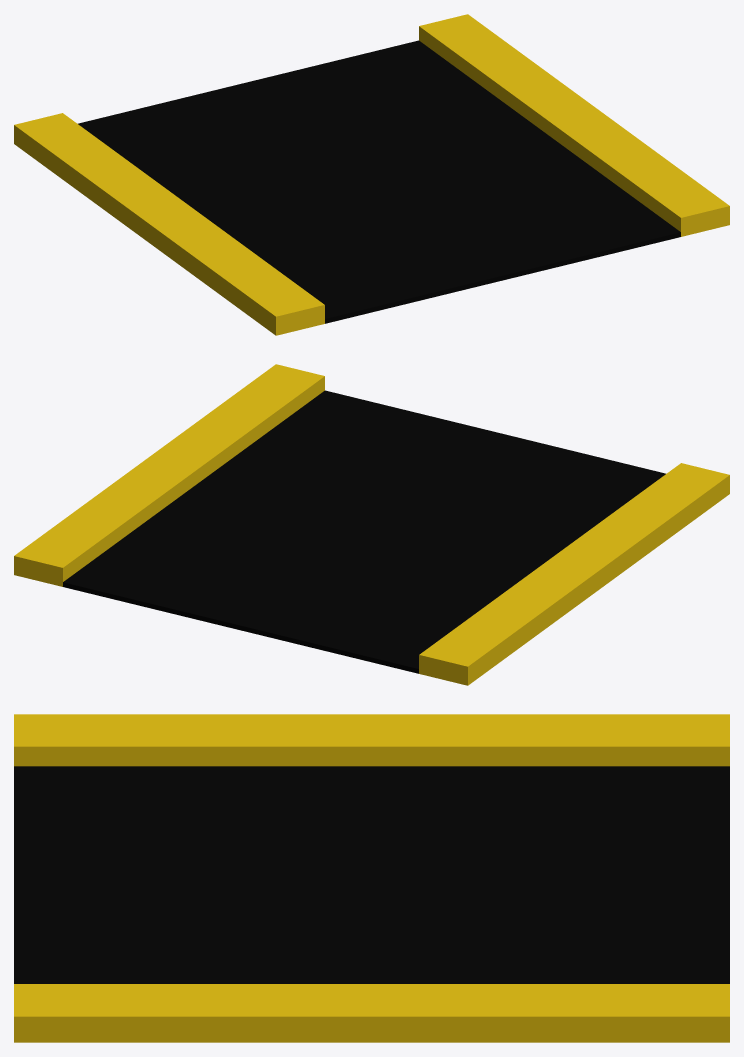
Rendered from Road_MD.fbx.
The picture shows the model from 3 angles, top to bottom: view 1: azimuth 30°, elevation 25°; view 2: azimuth 150°, elevation 25°; view 3: azimuth 270°, elevation 25°; orthographic projection. The views are drawn at different scales.
Visible parts, largest first — view 1: Road_tile; view 2: Road_tile; view 3: Road_tile.
Boxes of the visible parts, box(x1,y1,x2,y2) form: Road_tile: box(14, 14, 729, 335); Road_tile: box(14, 364, 729, 685); Road_tile: box(14, 714, 729, 1042).
Size of the model in its own units: 100 by 4.02 by 100.
